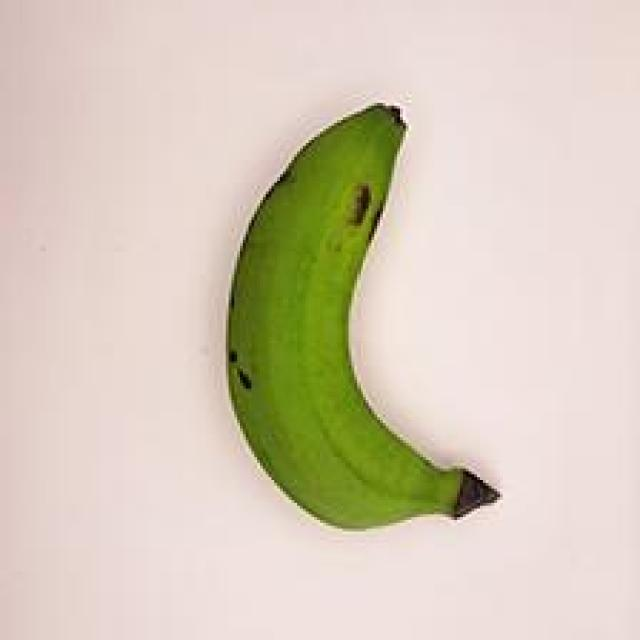Raw: (198, 94, 511, 557)
